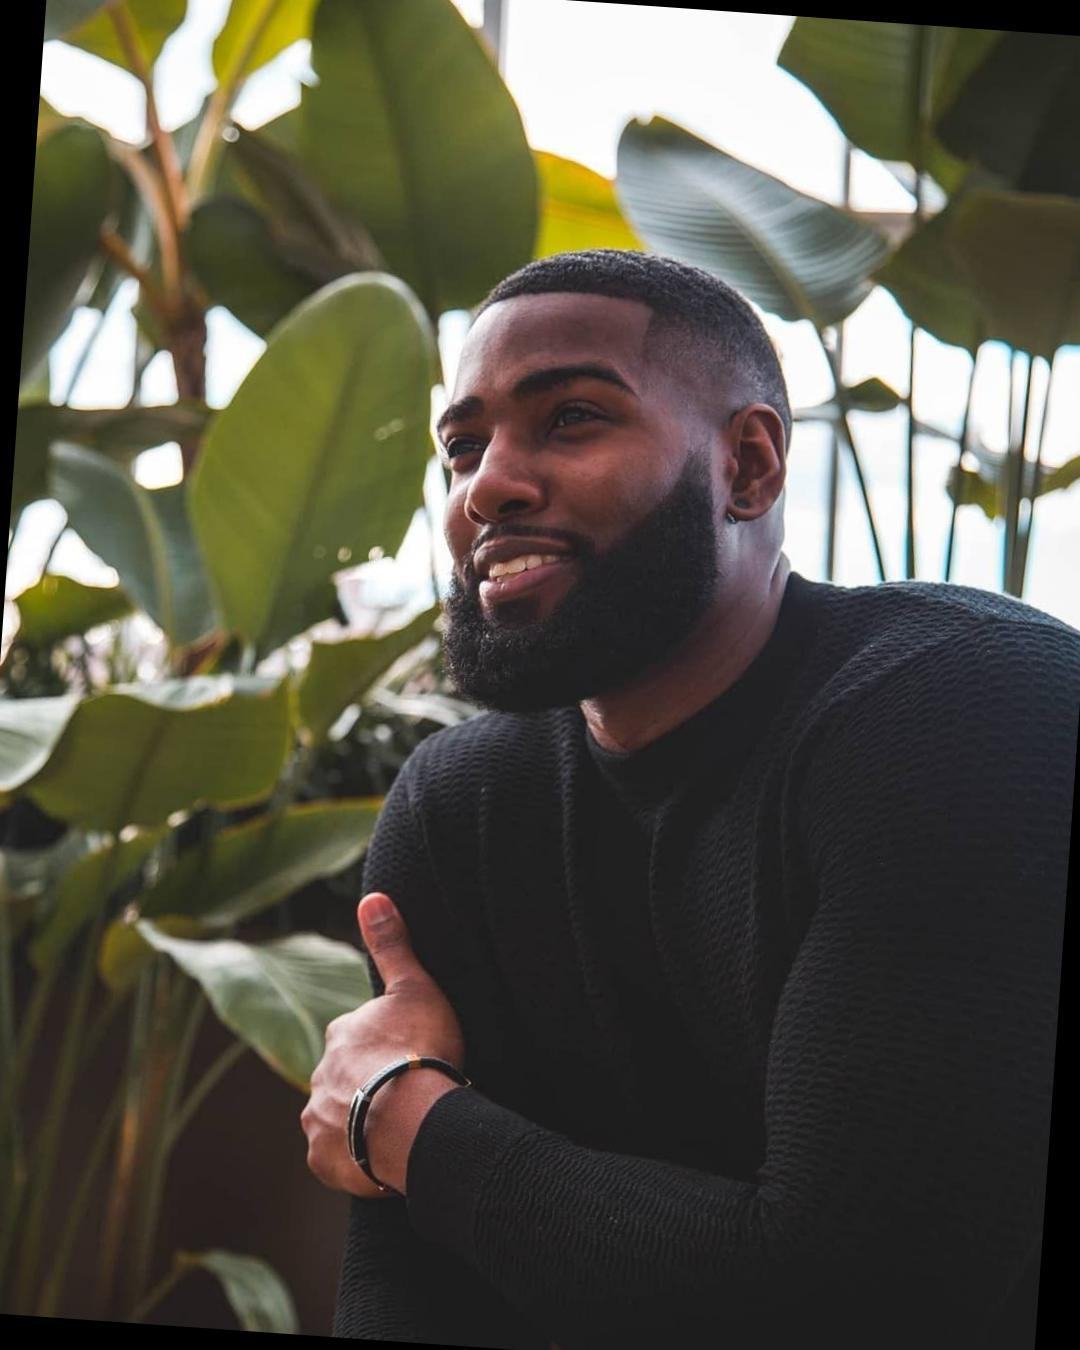Sober: (421, 317, 693, 660)
